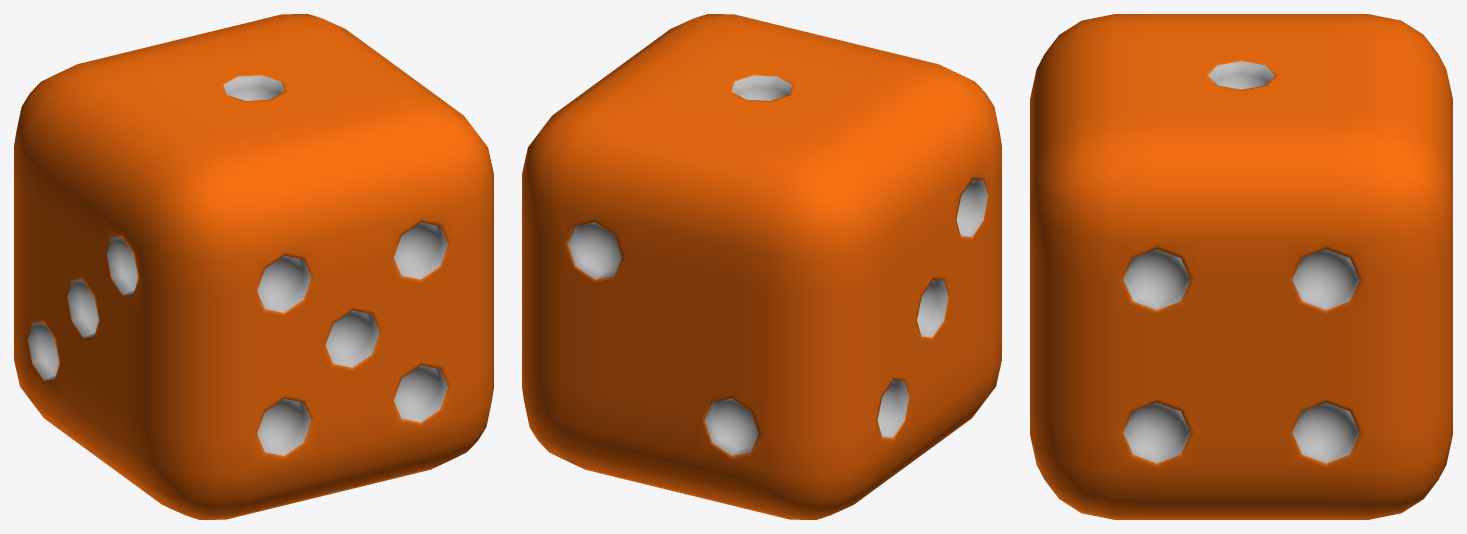
File: dice2.glb
3 views of the same model, side by side, from view 1: azimuth 30°, elevation 25°; view 2: azimuth 150°, elevation 25°; view 3: azimuth 270°, elevation 25° (orthographic). The views are drawn at different scales.
Visible parts, largest first — view 1: Cube.002; view 2: Cube.002; view 3: Cube.002.
Part boxes in pixels (x1,y1,x2,y2): Cube.002: (14,14,493,519); Cube.002: (522,14,1001,519); Cube.002: (1030,14,1452,519).
Bounding box in the file's own units: 1 × 1 × 1.
